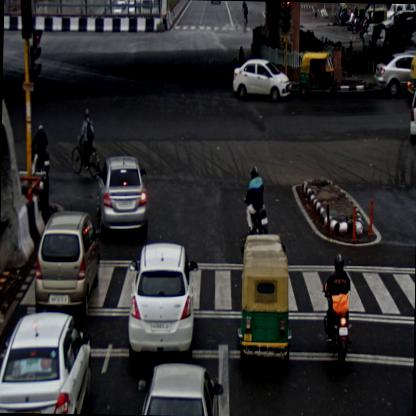car: (0, 309, 93, 413), (127, 241, 198, 368), (33, 208, 101, 318), (134, 362, 223, 416), (95, 155, 148, 236), (232, 57, 291, 102), (373, 51, 415, 99), (409, 83, 415, 148), (210, 0, 221, 5)
motorcycle: (321, 252, 352, 370), (70, 106, 98, 180), (244, 164, 269, 232), (30, 118, 51, 170)
